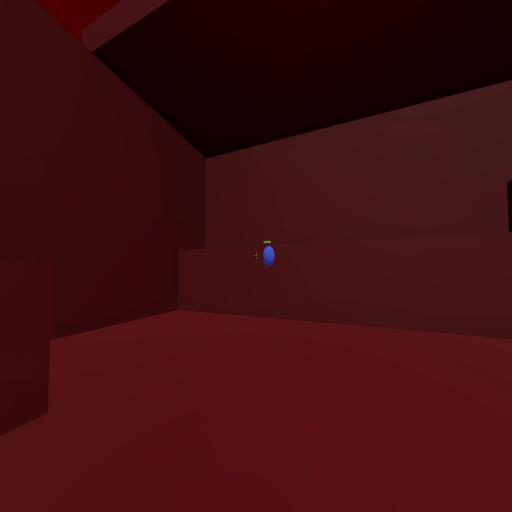Crosshair: (254, 252, 258, 260)
Target: (263, 246, 275, 268)
